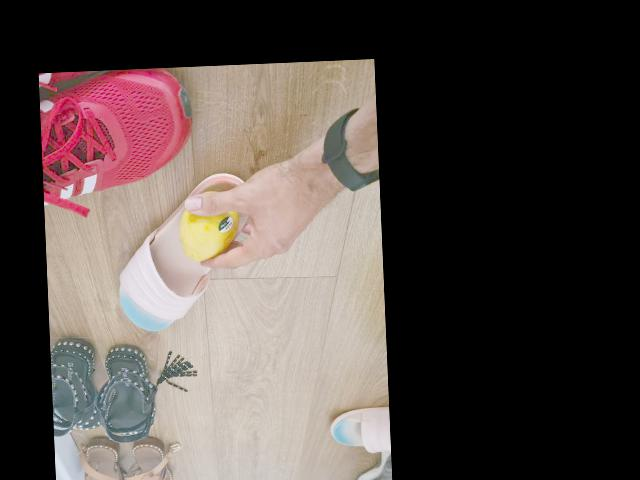lemon: (182, 192, 237, 262)
